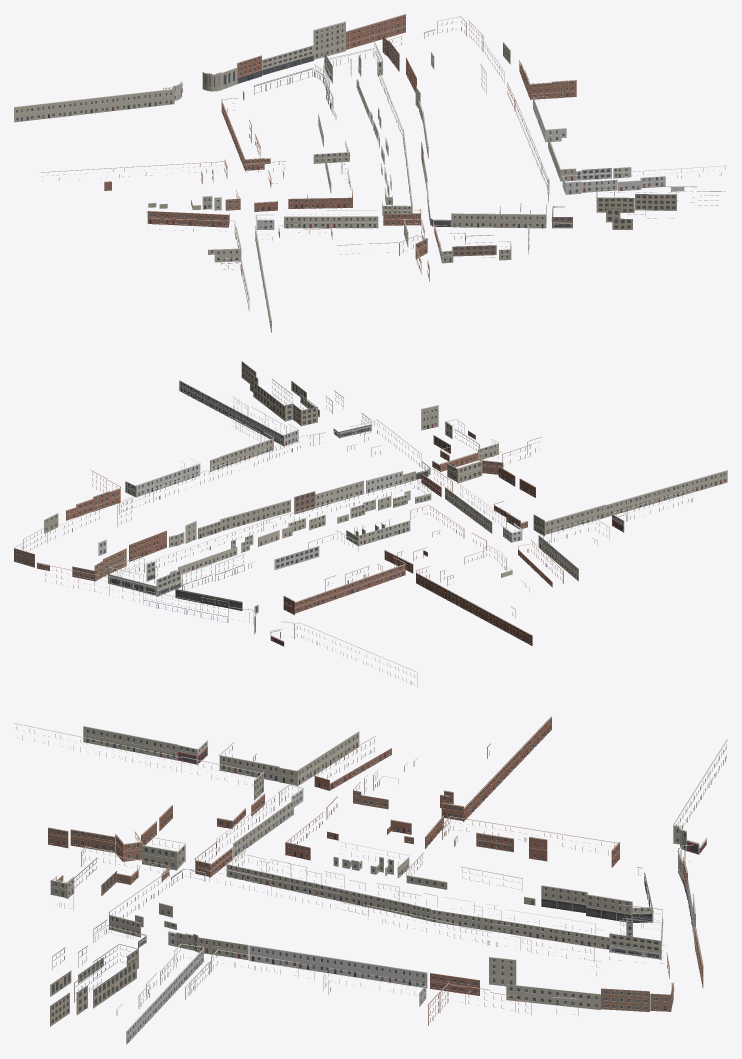
The picture shows the model from 3 angles, top to bottom: view 1: azimuth 30°, elevation 25°; view 2: azimuth 150°, elevation 25°; view 3: azimuth 270°, elevation 25°; orthographic projection. The views are drawn at different scales.
Parts seen in each view (by area): view 1: f:way/172305442, f:way/171285876, f:way/172022955, f:way/171230695, f:way/145160318, f:way/972913153, f:way/145162487, f:way/972910238, f:way/171152270, f:way/972910235, f:way/172031010, f:way/171465015 (+8 smaller); view 2: f:way/172298669, f:way/171285876, f:way/172031010, f:way/171465015, f:way/172022955, f:way/171465018, f:way/104589293, f:way/1037979572, f:way/171230697, f:way/93900073, f:way/171152266, f:way/171152270 (+10 smaller); view 3: f:way/172031010, f:way/171421235, f:way/171285876, f:way/1037979572, f:way/93900073, f:relation/2279494, f:way/171465018, f:way/171465015, f:way/171887777, f:way/172022955, f:way/171152267, f:way/1037979576 (+16 smaller).
Boxes of the visible parts, x1=… form: f:way/172305442: x1=14, y1=86, x2=174, y2=122; f:way/171285876: x1=596, y1=185, x2=725, y2=229; f:way/172022955: x1=562, y1=165, x2=727, y2=194; f:way/171230695: x1=451, y1=203, x2=547, y2=228; f:way/145160318: x1=284, y1=209, x2=378, y2=228; f:way/972913153: x1=346, y1=14, x2=405, y2=49; f:way/145162487: x1=146, y1=211, x2=229, y2=227; f:way/972910238: x1=313, y1=21, x2=345, y2=59; f:way/171152270: x1=519, y1=60, x2=576, y2=99; f:way/972910235: x1=262, y1=45, x2=313, y2=75; f:way/172031010: x1=378, y1=129, x2=412, y2=215; f:way/171465015: x1=221, y1=98, x2=270, y2=171; f:way/172298669: x1=533, y1=470, x2=727, y2=536; f:way/171285876: x1=241, y1=361, x2=343, y2=426; f:way/172031010: x1=263, y1=479, x2=431, y2=538; f:way/171465015: x1=283, y1=557, x2=405, y2=614; f:way/172022955: x1=179, y1=380, x2=298, y2=446; f:way/171465018: x1=416, y1=566, x2=532, y2=645; f:way/104589293: x1=108, y1=556, x2=181, y2=596; f:way/1037979572: x1=144, y1=522, x2=279, y2=574; f:way/171230697: x1=198, y1=499, x2=290, y2=538; f:way/93900073: x1=175, y1=554, x2=244, y2=610; f:way/171152266: x1=125, y1=458, x2=200, y2=497; f:way/171152270: x1=66, y1=470, x2=120, y2=520; f:way/172031010: x1=226, y1=850, x2=437, y2=921; f:way/171421235: x1=249, y1=945, x2=427, y2=988; f:way/171285876: x1=50, y1=943, x2=138, y2=1026; f:way/1037979572: x1=430, y1=897, x2=609, y2=949; f:way/93900073: x1=541, y1=872, x2=653, y2=922; f:relation/2279494: x1=48, y1=805, x2=172, y2=861; f:way/171465018: x1=440, y1=716, x2=552, y2=821; f:way/171465015: x1=442, y1=816, x2=619, y2=867; f:way/171887777: x1=83, y1=726, x2=177, y2=760; f:way/172022955: x1=116, y1=943, x2=203, y2=1044; f:way/171152267: x1=506, y1=984, x2=600, y2=1009; f:way/1037979576: x1=601, y1=982, x2=673, y2=1011.
Bounding box in the file's own units: 290 × 18.21 × 274.
